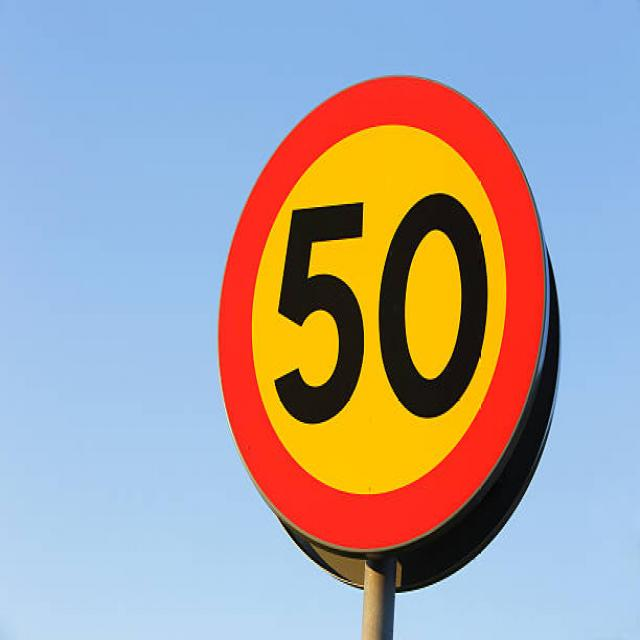speed_limit_50: (213, 64, 554, 560)
